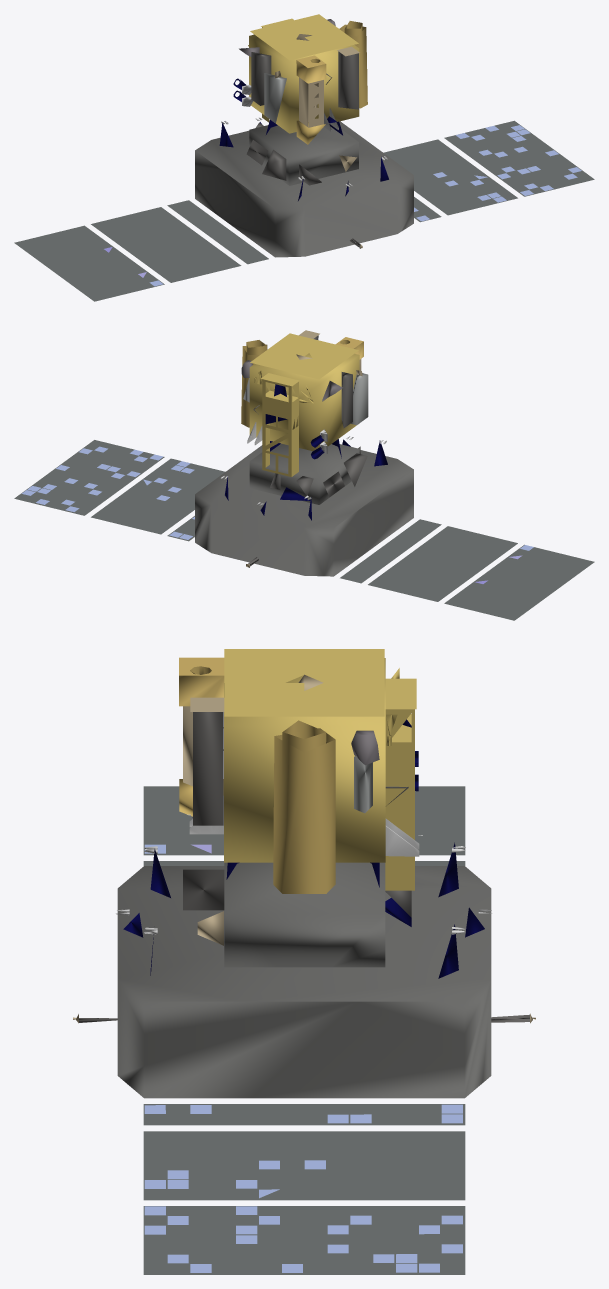
The model's file is soho.glb.
3 views of the same model, one above another, from view 1: azimuth 30°, elevation 25°; view 2: azimuth 150°, elevation 25°; view 3: azimuth 270°, elevation 25° (orthographic). The views are drawn at different scales.
Parts seen in each view (by area): view 1: Fake; view 2: Fake; view 3: Fake.
Part boxes in pixels (x1,y1,x2,y2): Fake: [14, 14, 594, 301]; Fake: [14, 330, 594, 620]; Fake: [73, 649, 535, 1274].
Size of the model in its own units: 43.27 by 14.43 by 17.34.
Materials: 1 (1 with a texture image).
